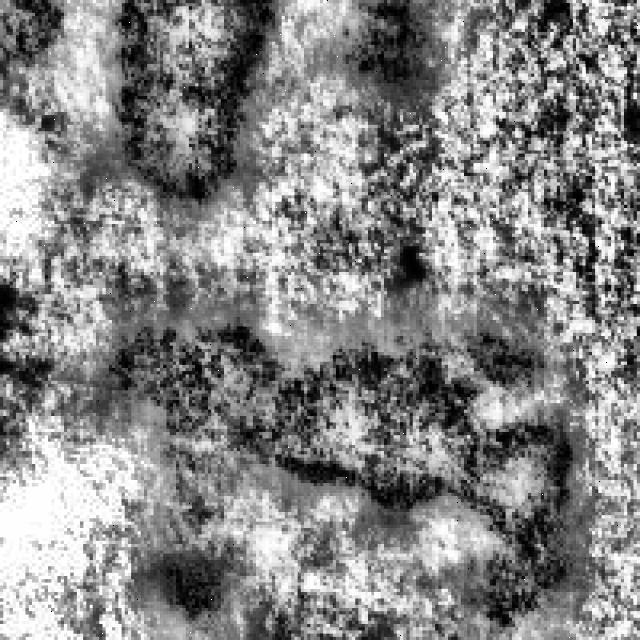Scratches: (109, 304, 573, 522), (444, 387, 598, 634), (106, 0, 282, 211), (137, 534, 266, 634), (333, 0, 448, 86), (3, 0, 77, 93)
